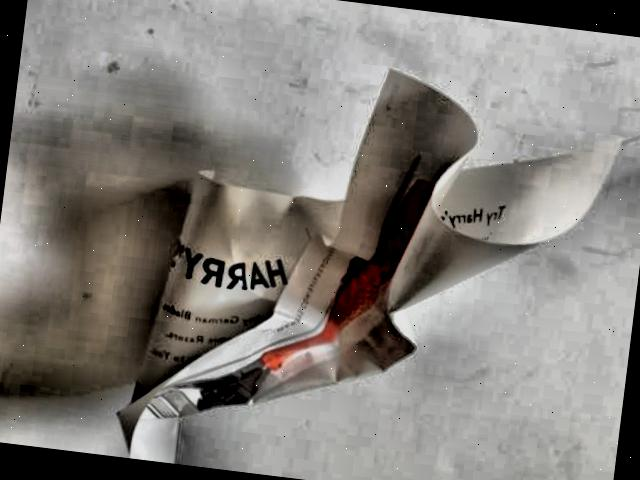Paper: (99, 32, 629, 480)
